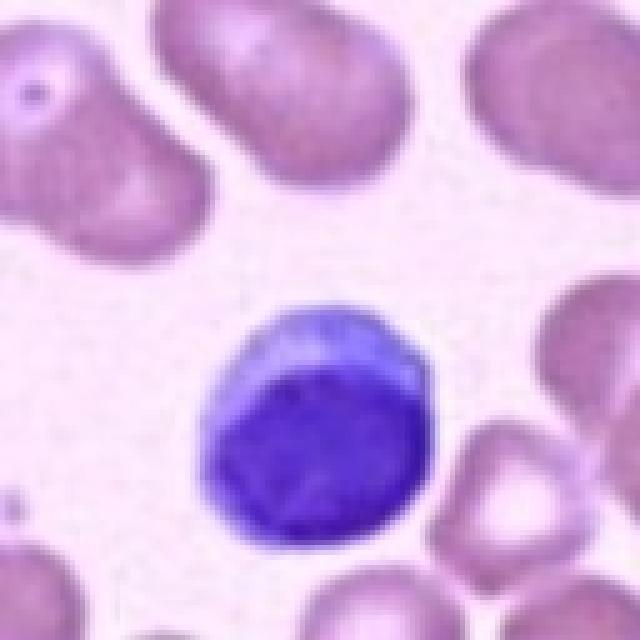lympho: (191, 293, 444, 553)
